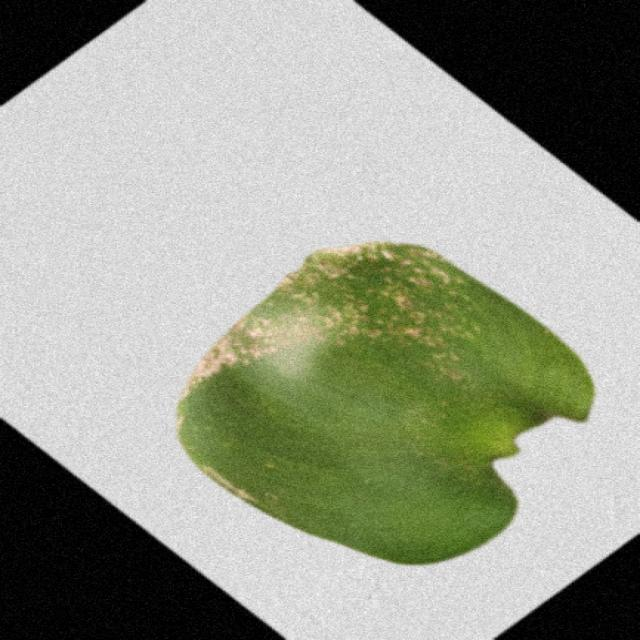daun berpenyakit bercak: (178, 243, 593, 565)
